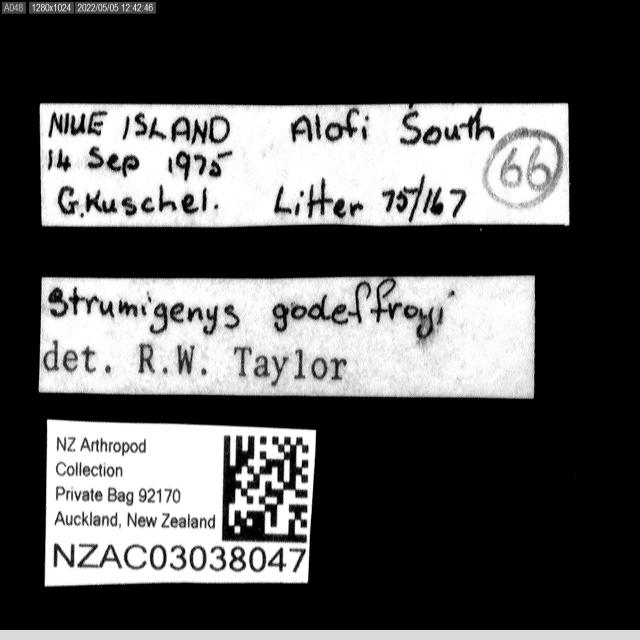hand_label: (40, 103, 569, 227)
mixed_label: (39, 277, 535, 398)
typed_label: (45, 420, 315, 586)
